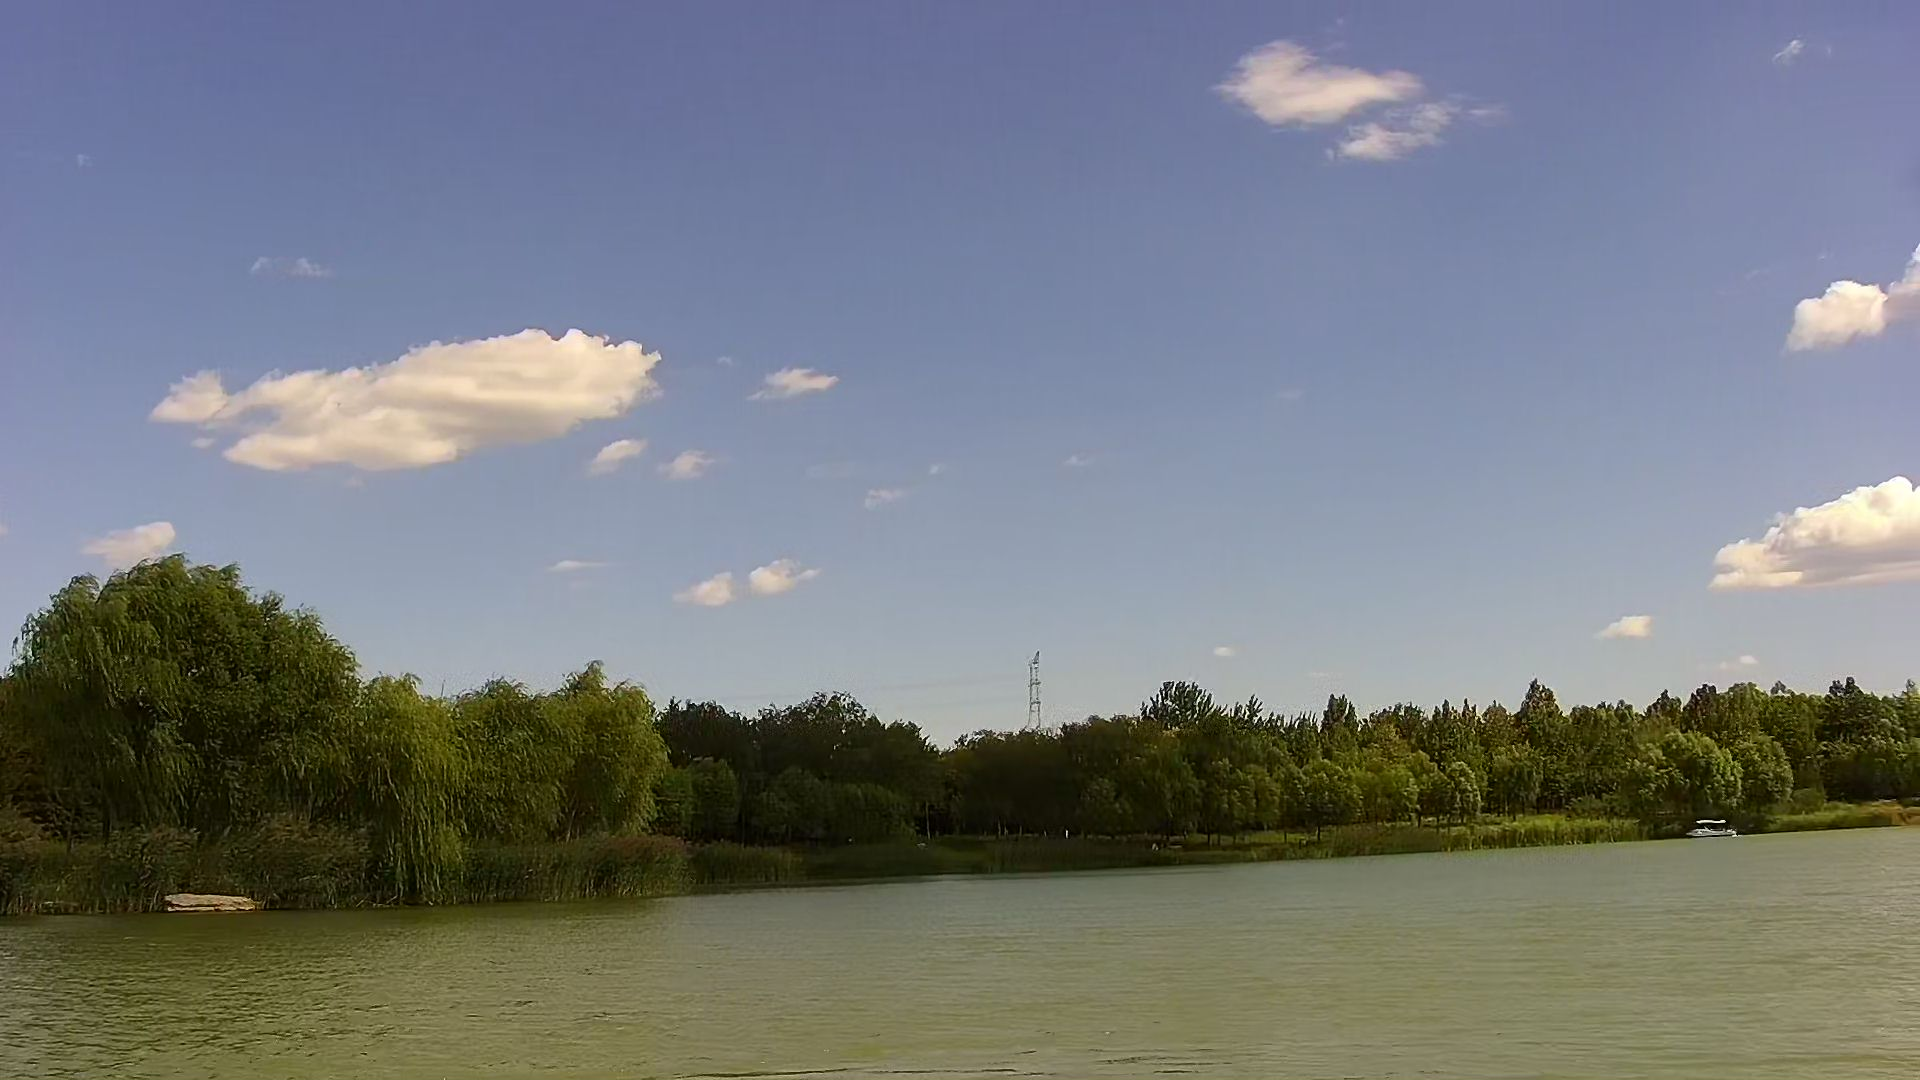boat: (1685, 816, 1731, 839)
rock: (164, 893, 258, 913)
